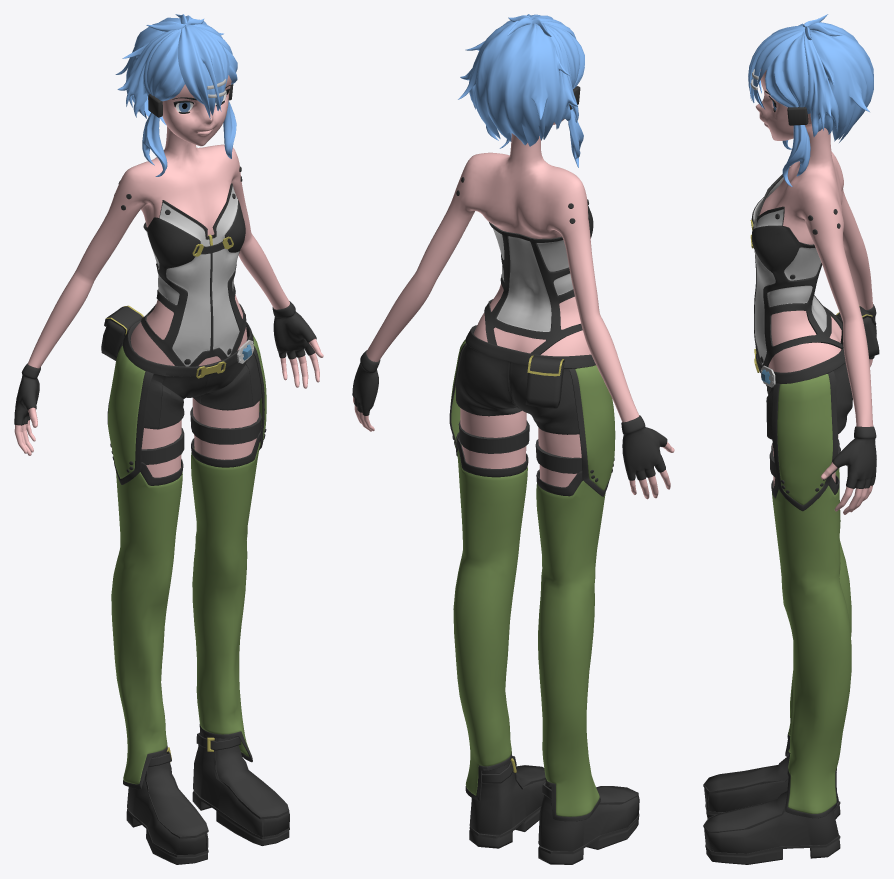
Rendered from sinon.fbx.
The picture shows the model from 3 angles, left to right: view 1: azimuth 30°, elevation 25°; view 2: azimuth 150°, elevation 25°; view 3: azimuth 270°, elevation 25°; orthographic projection. The views are drawn at different scales.
Visible parts, largest first — view 1: PantsLower, TorsoUpper, Shoes, BreastPlateLight, Shorts, BreastPlateDark, PantsUpper, Hair6, Gloves, Hair1, PantStraps, PantsLowerTrim (+6 smaller); view 2: PantsLower, TorsoUpper, Shoes, Hair5, Shorts, BreastPlateLight, PantsUpper, BreastPlateDark, Gloves, PantsLowerTrim, PantStraps, AmmoClip (+4 smaller); view 3: PantsLower, TorsoUpper, Shoes, PantsUpper, BreastPlateDark, Hair5, BreastPlateLight, Hair1, Shorts, Hair2, Gloves, PantsUpperTrim (+6 smaller).
Part boxes in pixels (bbox=[...]): PantsLower: bbox=[111, 441, 260, 784]; TorsoUpper: bbox=[14, 75, 323, 477]; Shoes: bbox=[126, 730, 289, 864]; BreastPlateLight: bbox=[146, 186, 239, 366]; Shorts: bbox=[122, 320, 261, 429]; BreastPlateDark: bbox=[141, 183, 246, 366]; PantsUpper: bbox=[108, 335, 266, 478]; Hair6: bbox=[178, 24, 229, 118]; Gloves: bbox=[14, 301, 316, 425]; Hair1: bbox=[147, 25, 237, 101]; PantStraps: bbox=[141, 407, 261, 464]; PantsLowerTrim: bbox=[123, 426, 261, 789]; PantsLower: bbox=[453, 444, 605, 816]; TorsoUpper: bbox=[353, 118, 674, 499]; Shoes: bbox=[469, 755, 639, 864]; Hair5: bbox=[458, 20, 570, 146]; Shorts: bbox=[456, 325, 595, 434]; BreastPlateLight: bbox=[492, 224, 573, 331]; PantsUpper: bbox=[450, 339, 615, 490]; BreastPlateDark: bbox=[484, 205, 593, 354]; Gloves: bbox=[352, 350, 667, 480]; PantsLowerTrim: bbox=[456, 432, 600, 821]; PantStraps: bbox=[458, 420, 582, 473]; AmmoClip: bbox=[525, 356, 564, 408]; PantsLower: bbox=[772, 468, 851, 813]; TorsoUpper: bbox=[755, 69, 873, 514]; Shoes: bbox=[704, 745, 840, 864]; PantsUpper: bbox=[777, 374, 832, 505]; BreastPlateDark: bbox=[751, 174, 842, 366]; Hair5: bbox=[810, 22, 873, 142]; BreastPlateLight: bbox=[753, 177, 826, 364]; Hair1: bbox=[765, 23, 808, 107]; Shorts: bbox=[756, 315, 852, 439]; Hair2: bbox=[804, 32, 838, 136]; Gloves: bbox=[832, 304, 876, 488]; PantsUpperTrim: bbox=[771, 371, 838, 511].
Bounding box in the file's own units: 0.4925 × 1.24 × 0.2444.
